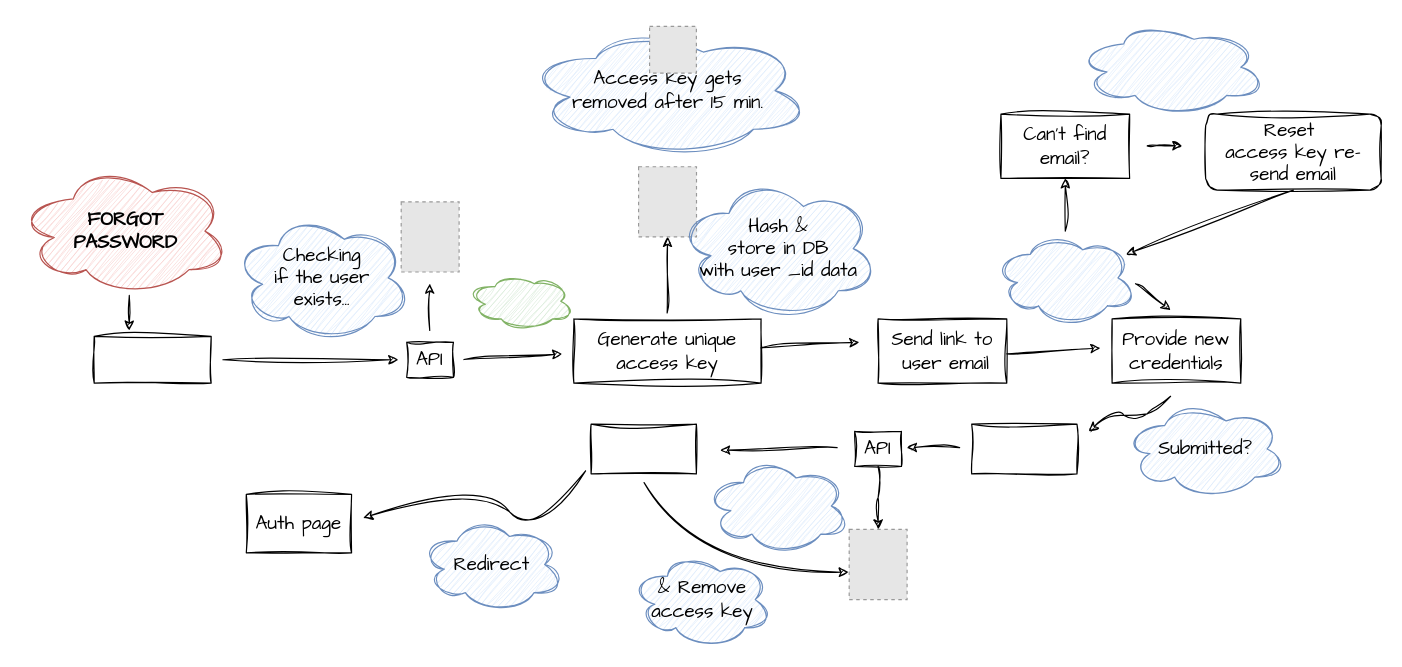
Image size: 1402x667. Some labels were removed from this diagram. Grey dashed boxes stand in for pictures. The shapes that lost their labels are listed below. From the top down, each one's centre as x and y in pixels, then its label:
the point at 1170,66: Request acc. recovery again
the point at 1064,277: Clicked on link?
the point at 520,301: EXISTS
the point at 152,359: Enter email
the point at 643,448: Store new credentials
the point at 1024,448: Validate access key
the point at 778,505: Matches?
